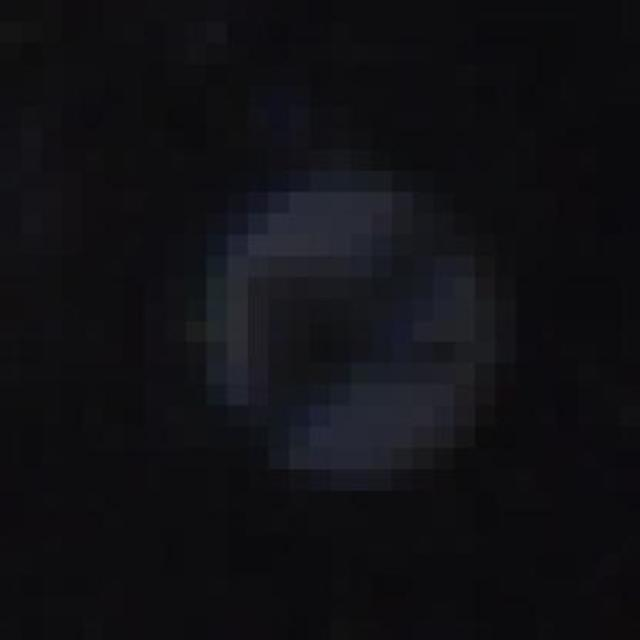Overtaking by trucks is prohibited: (124, 106, 558, 534)
